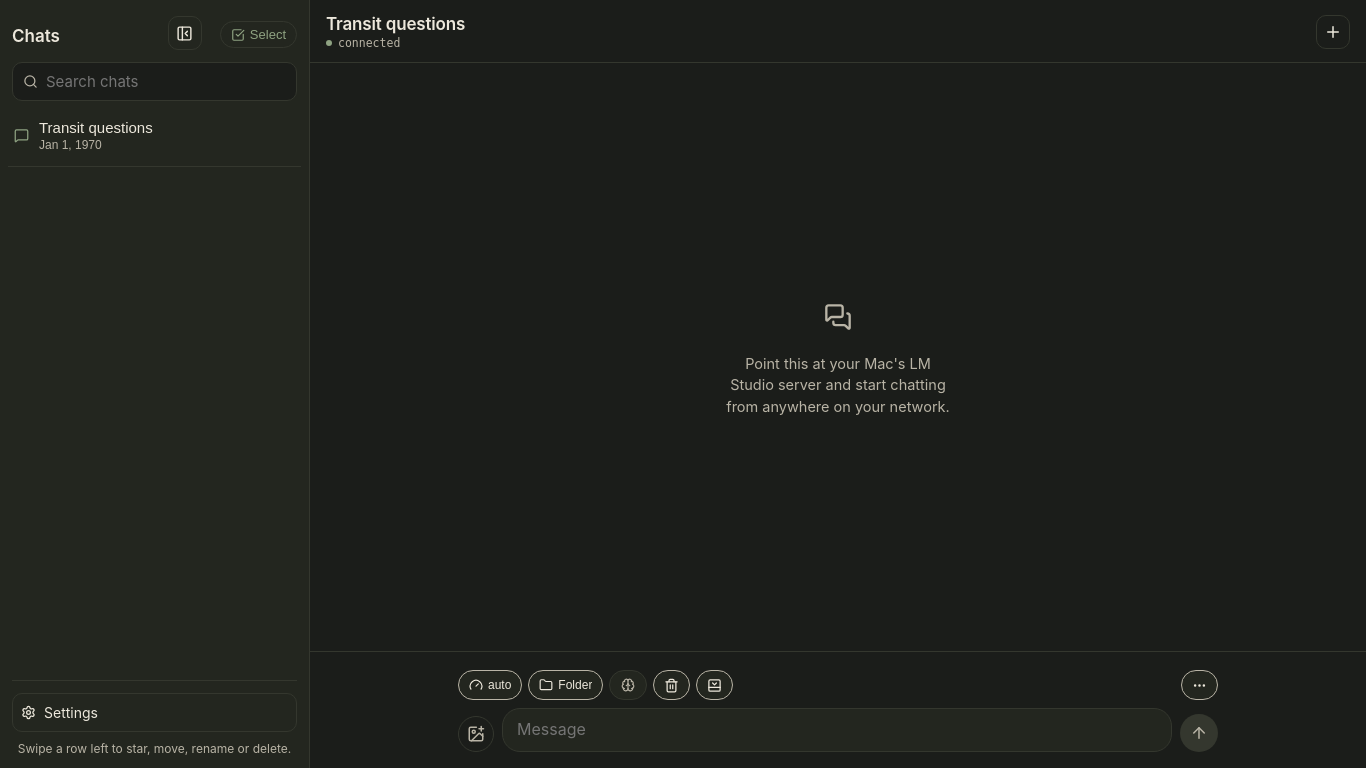
Test: App › tucks the message bar away on a wide screen, with a corner button to bring it back
Click the button named "Hide message bar" at {"x": 715, "y": 685}, box [696, 670, 733, 700]
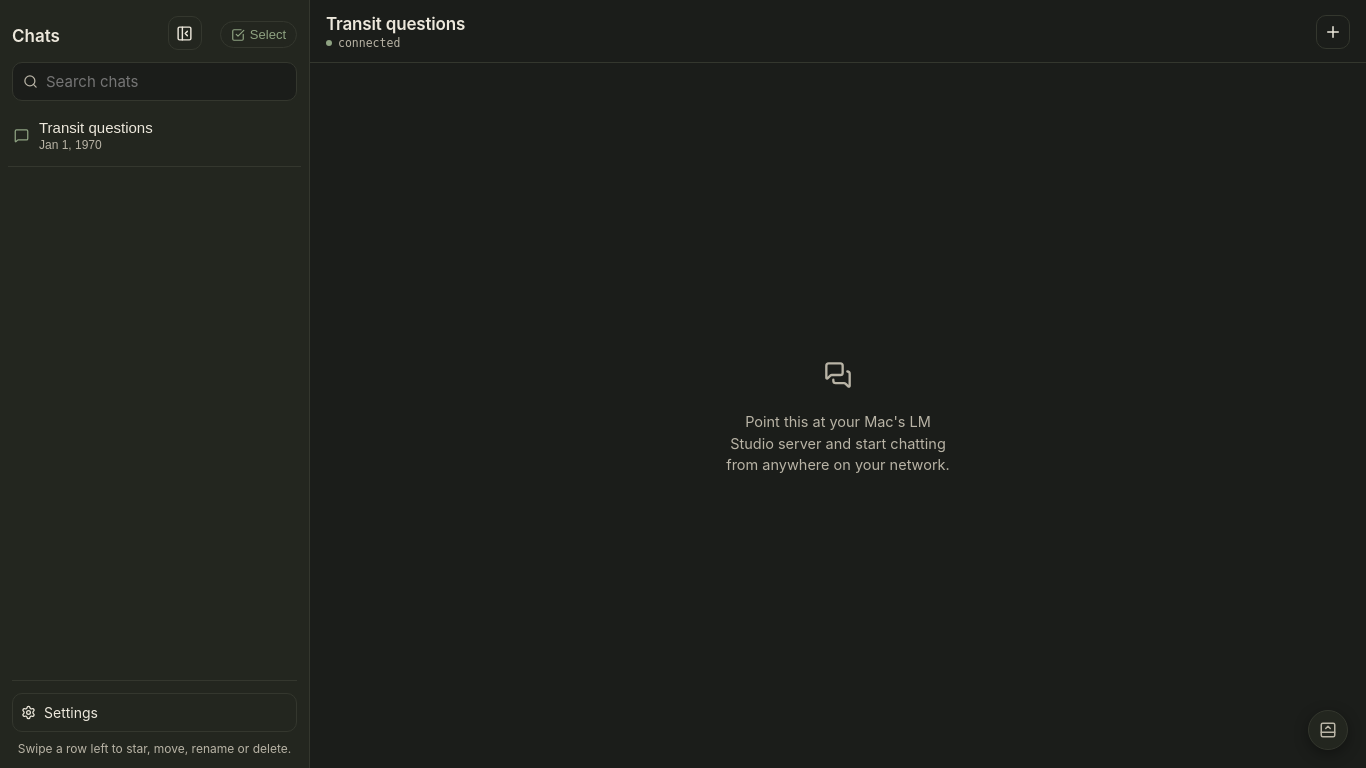
Result: the button with placeholder "Message" is gone
Click the button named "Show message bar" at {"x": 1328, "y": 730}, box [1308, 710, 1348, 750]
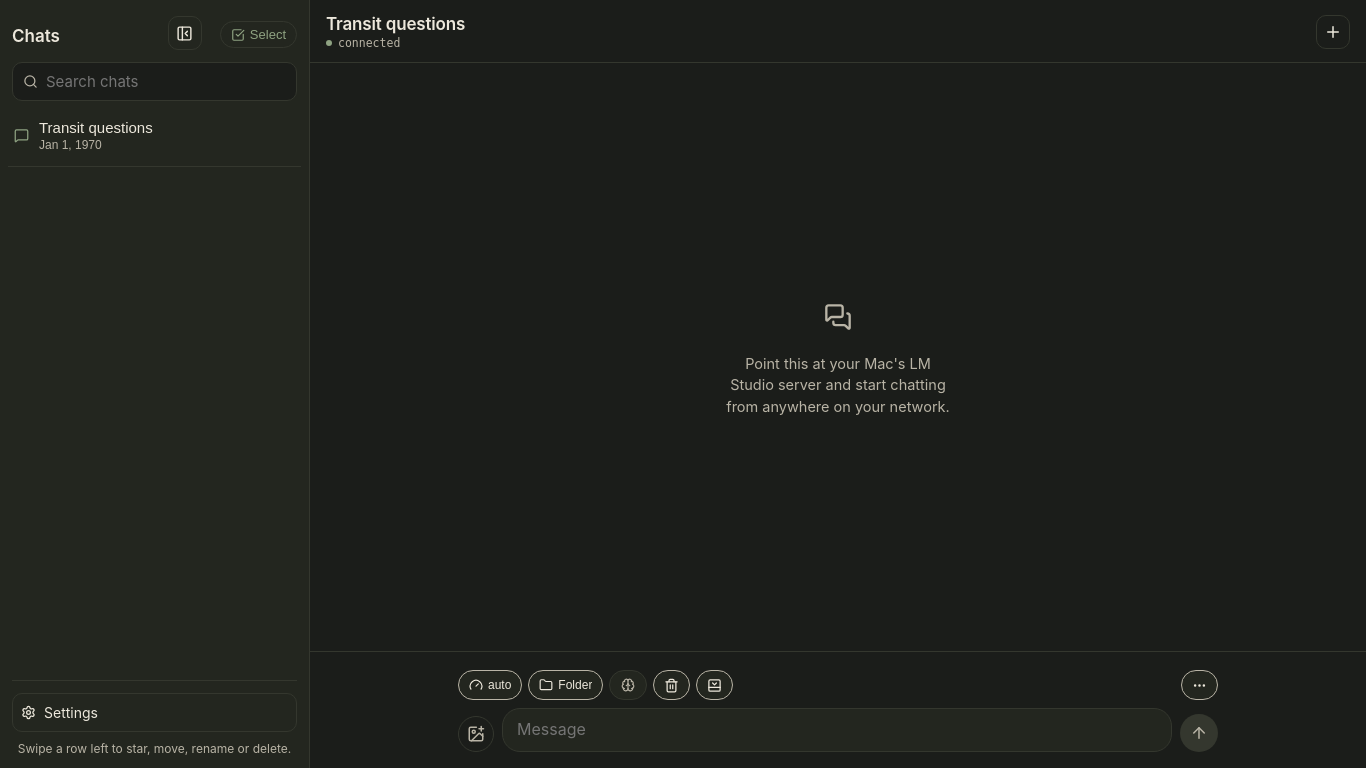
Result: the text box with placeholder "Message" is shown at [502, 708, 1172, 752]
